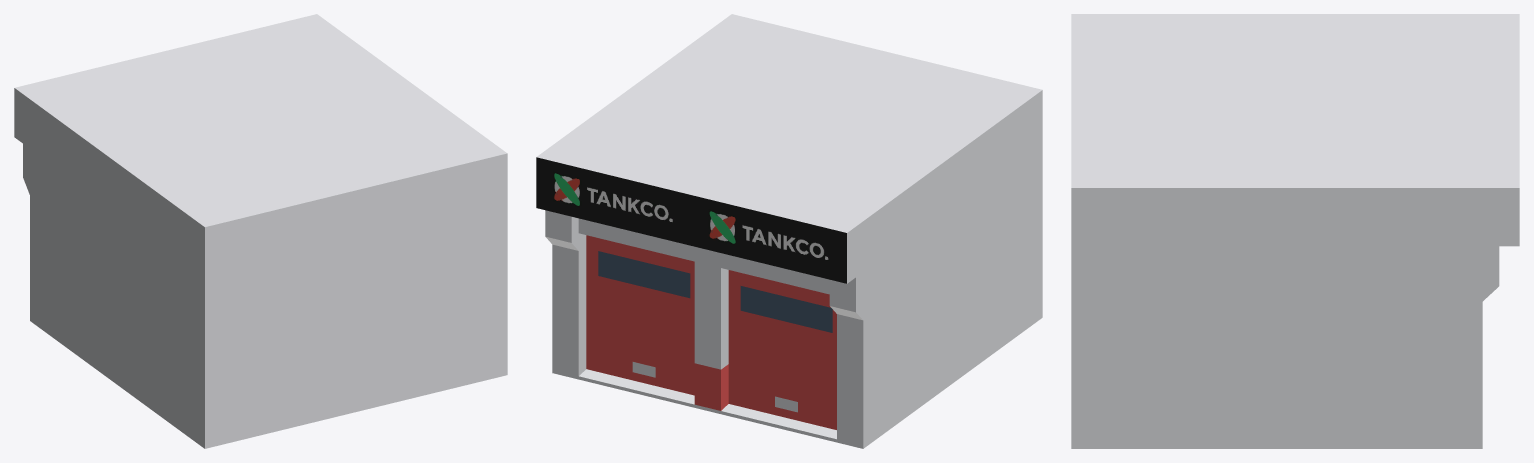
Rendered from kit_pitsGarageClosed.obj.
3 renders of one model, left to right at view 1: azimuth 30°, elevation 25°; view 2: azimuth 150°, elevation 25°; view 3: azimuth 270°, elevation 25°, orthographic. The views are drawn at different scales.
Parts seen in each view (by area): view 1: pitsGarageClosed; view 2: pitsGarageClosed; view 3: pitsGarageClosed.
Boxes of the visible parts, x1,y1,x2,y2 form: pitsGarageClosed: (14, 14, 507, 448); pitsGarageClosed: (536, 14, 1042, 448); pitsGarageClosed: (1071, 14, 1519, 448).
Size of the model in its own units: 1 by 0.7 by 1.09.
